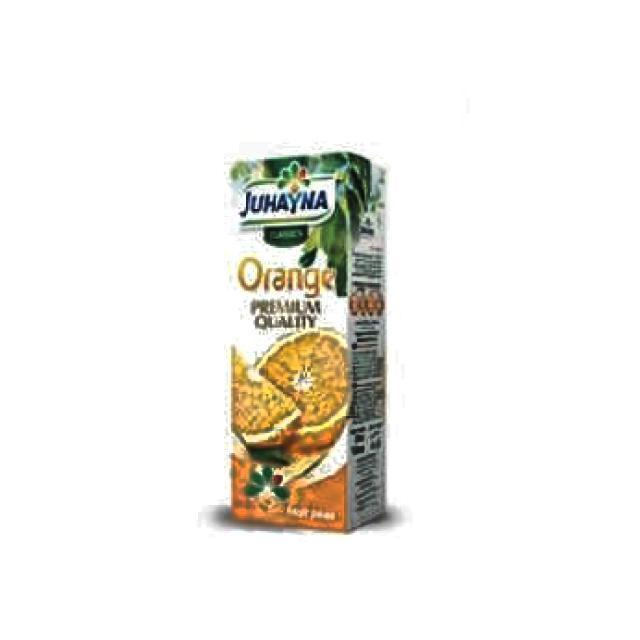cardboard: (222, 150, 388, 533)
